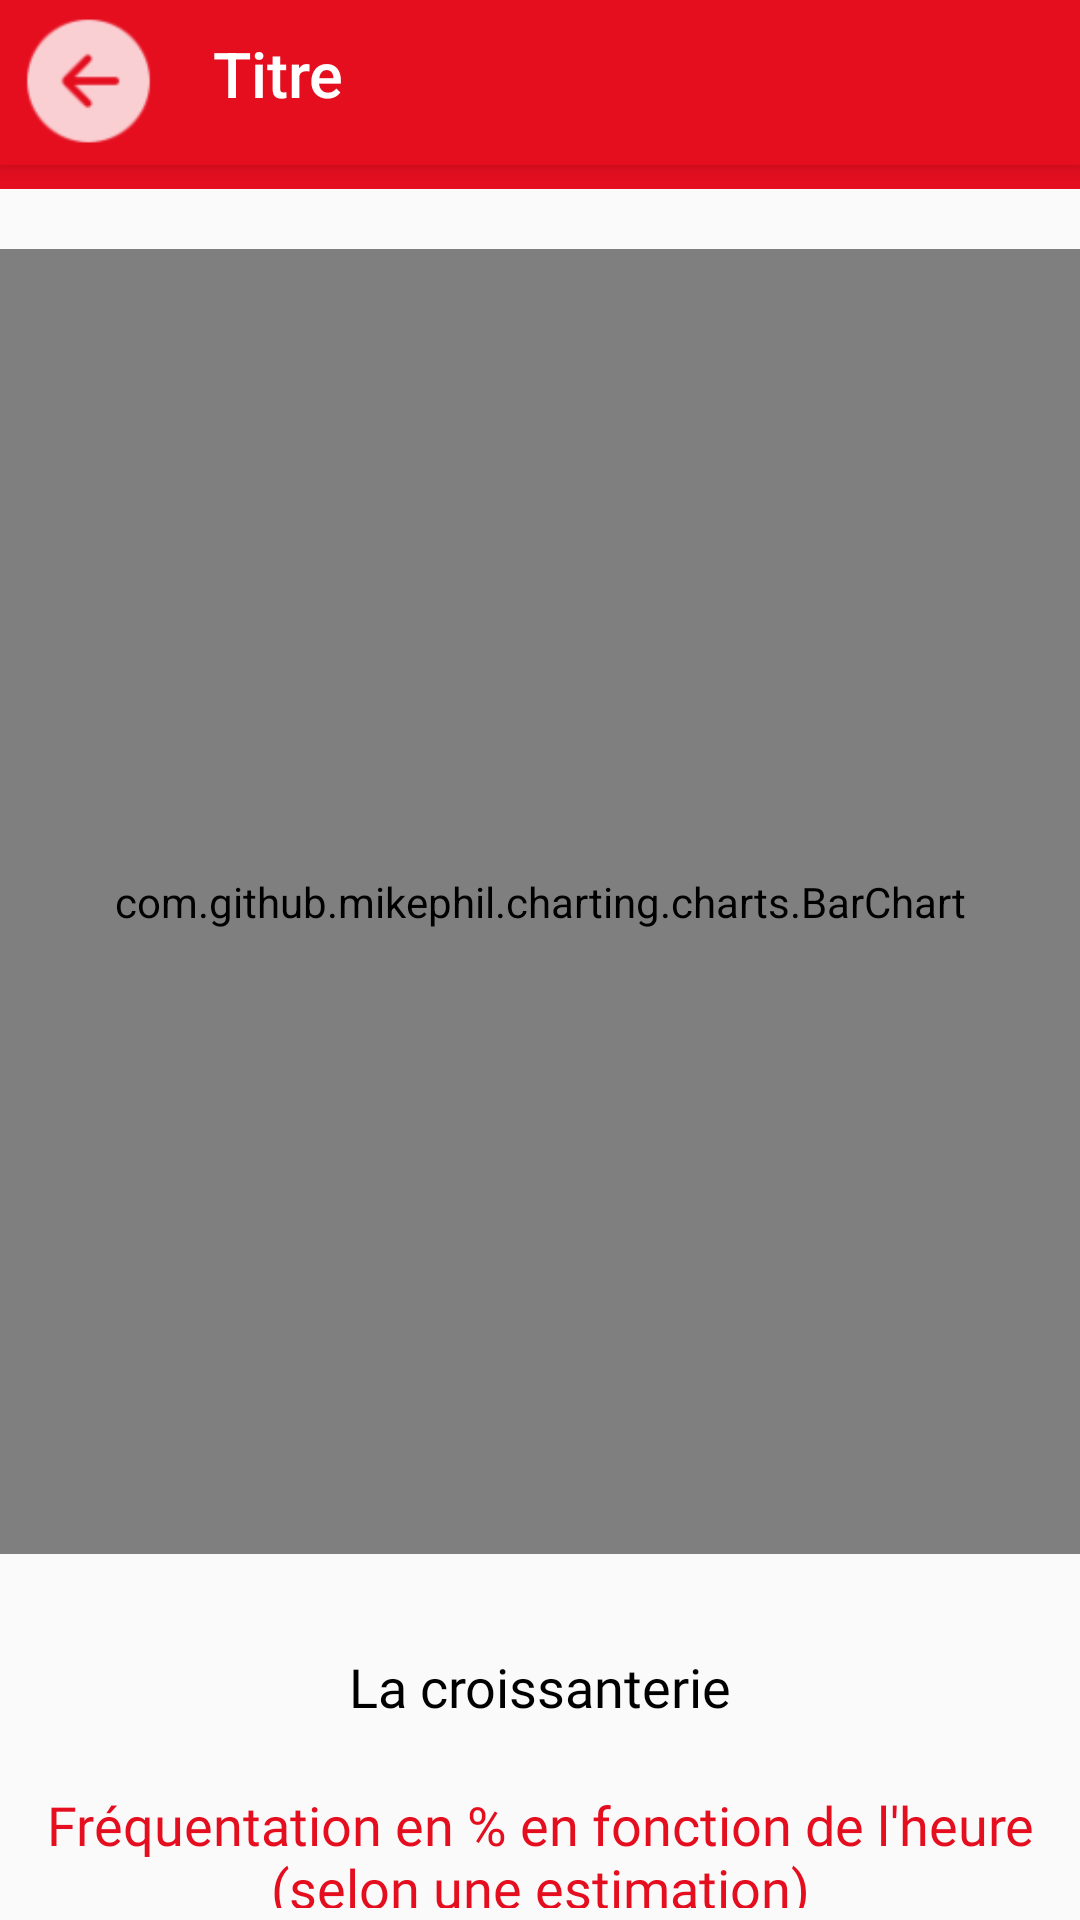

Icons on this 1080*1920 Android screen, each with its box as (x1, y1, x2, y2):
back: (26, 19, 151, 143)
